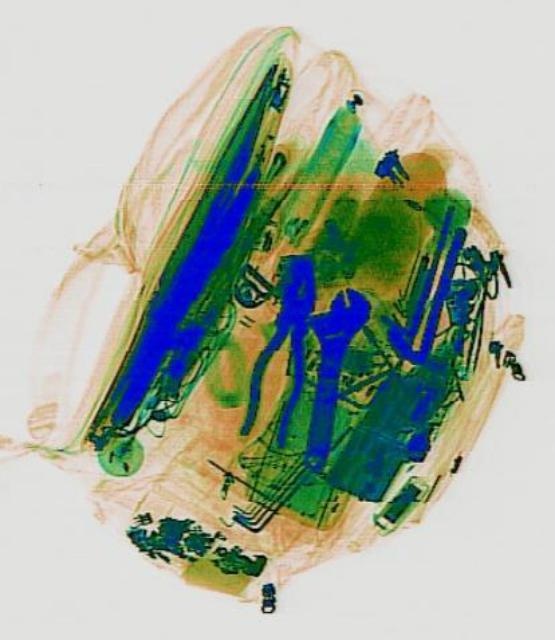Pliers: (235, 248, 330, 447)
Wrench: (279, 282, 372, 474)
